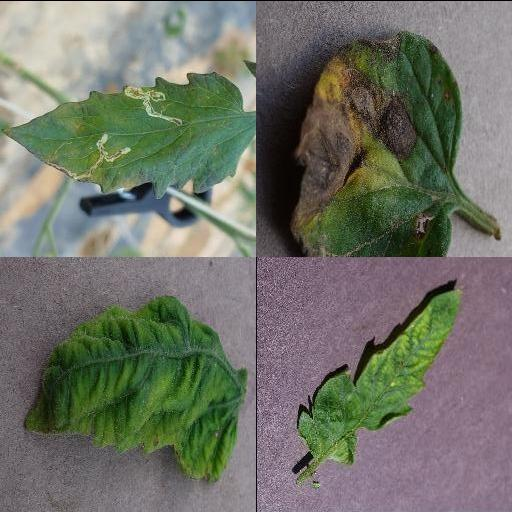Early Blight: (290, 29, 462, 255)
Leaf Miner: (1, 70, 256, 199)
Mosaic Virus: (297, 285, 463, 467)
Yellow Leaf Curl Virus: (21, 295, 245, 483)
